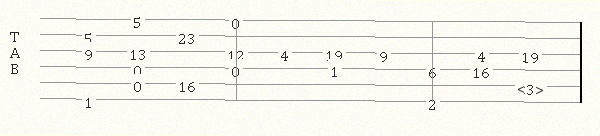0: (133, 61, 146, 75), (133, 77, 146, 91), (231, 61, 244, 75), (231, 13, 244, 27)
1: (84, 93, 97, 107), (330, 61, 343, 75)
12: (227, 45, 249, 59)
13: (129, 45, 151, 59)
16: (178, 77, 200, 91), (472, 61, 494, 75)
19: (325, 45, 347, 59), (521, 45, 543, 59)
2: (428, 93, 441, 107)
23: (178, 29, 200, 43)
4: (280, 45, 293, 59), (477, 45, 490, 59)
5: (84, 29, 97, 44), (133, 13, 146, 28)
6: (428, 61, 441, 75)
9: (84, 45, 97, 59), (379, 45, 392, 59)
harmonic: (517, 77, 548, 91)
